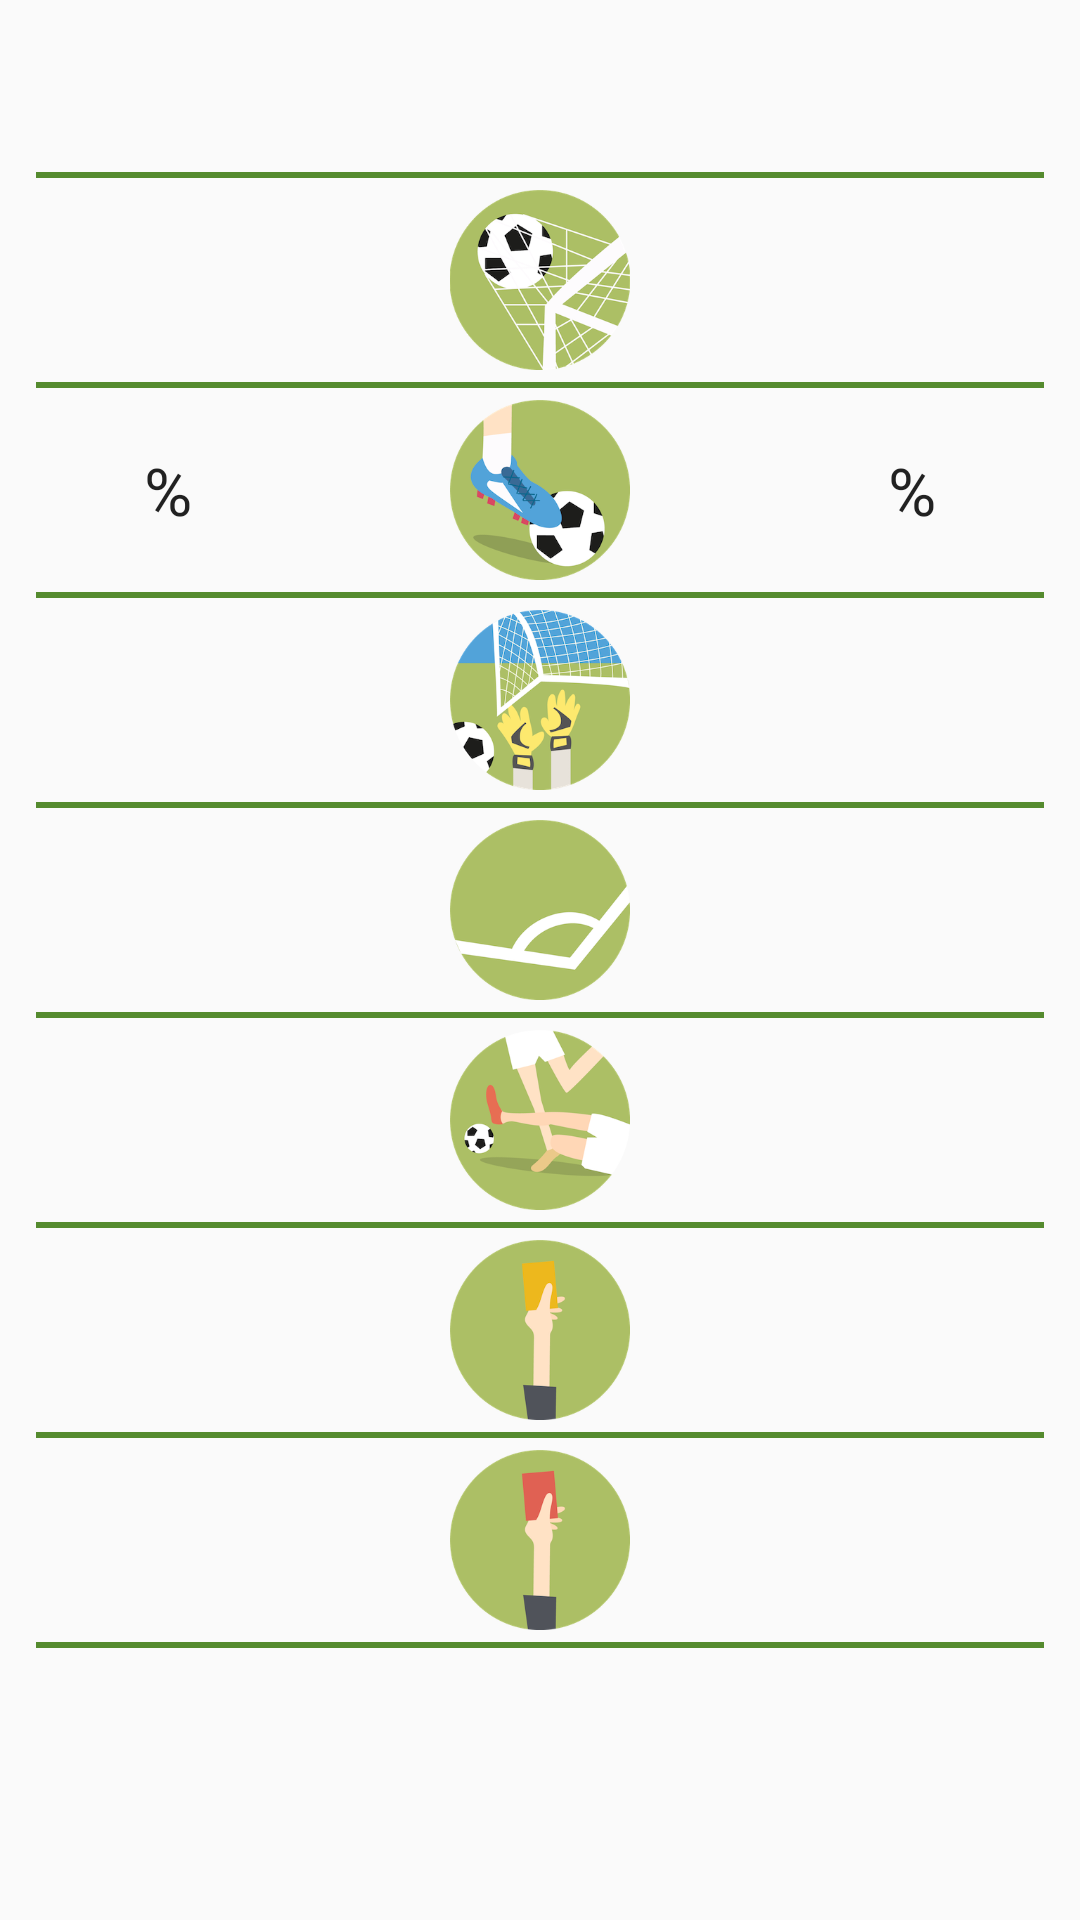

Where to tap for icons on this 1080px x 1920px app screen, as (x=x, y=y):
corner: (x=540, y=910)
foul: (x=540, y=1120)
goal: (x=540, y=280)
goalkeeper: (x=540, y=700)
kick: (x=540, y=490)
redcard: (x=540, y=1540)
yellowcard: (x=540, y=1330)
